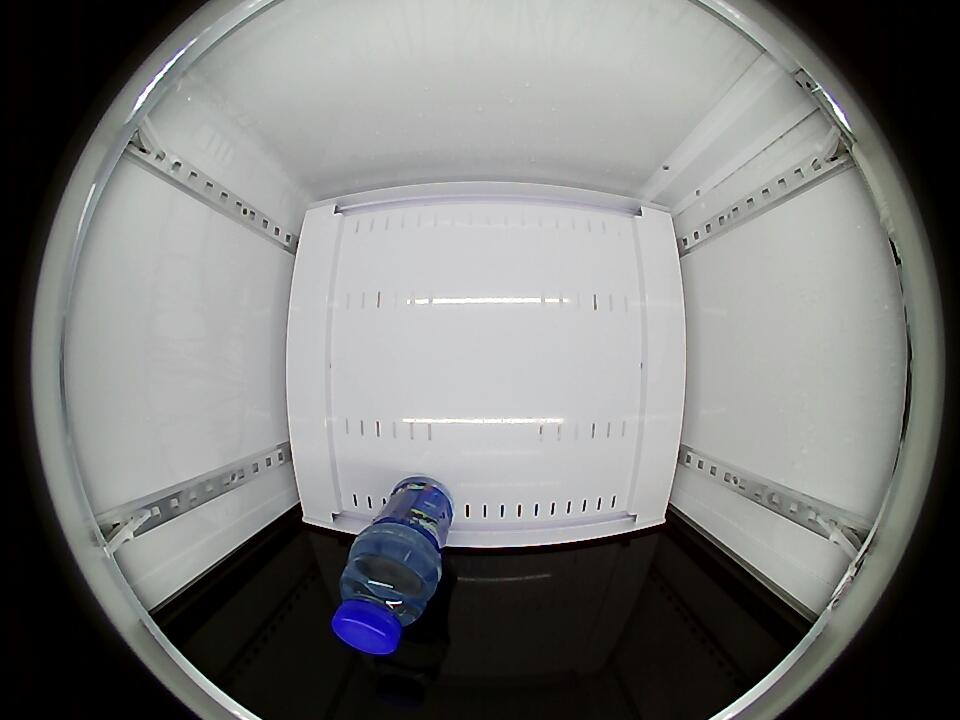maidong: (331, 546, 437, 656)
